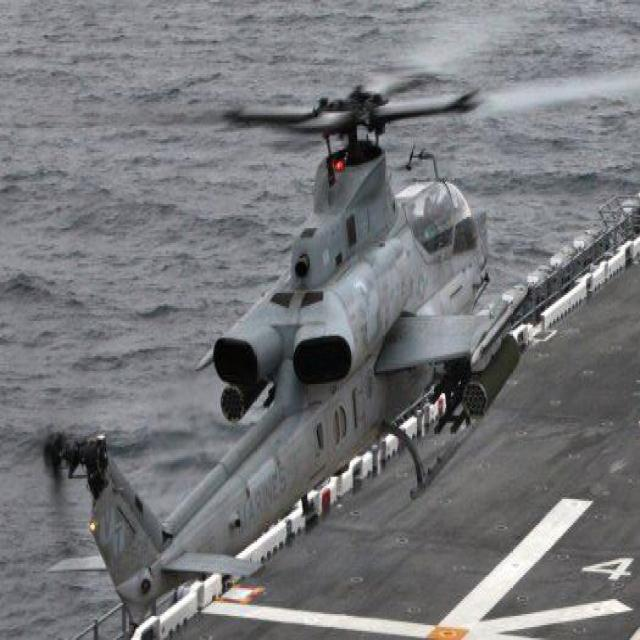MIL_HELO: (34, 46, 594, 631)
